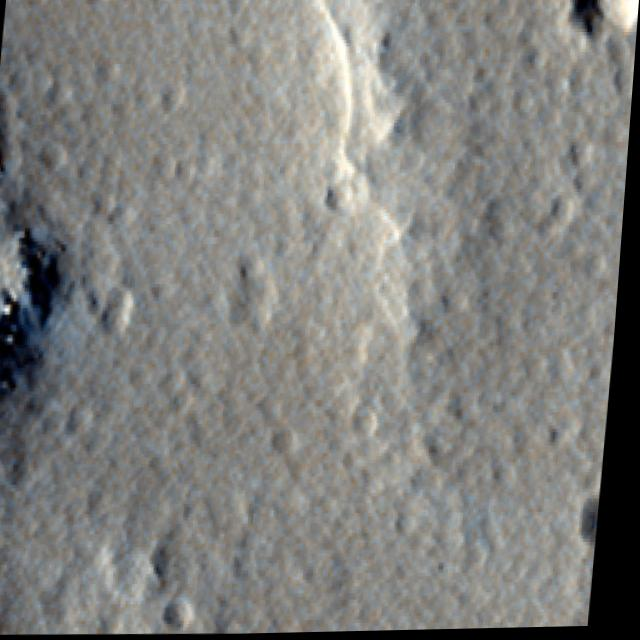Crater: (0, 462, 95, 636), (551, 0, 640, 69)
